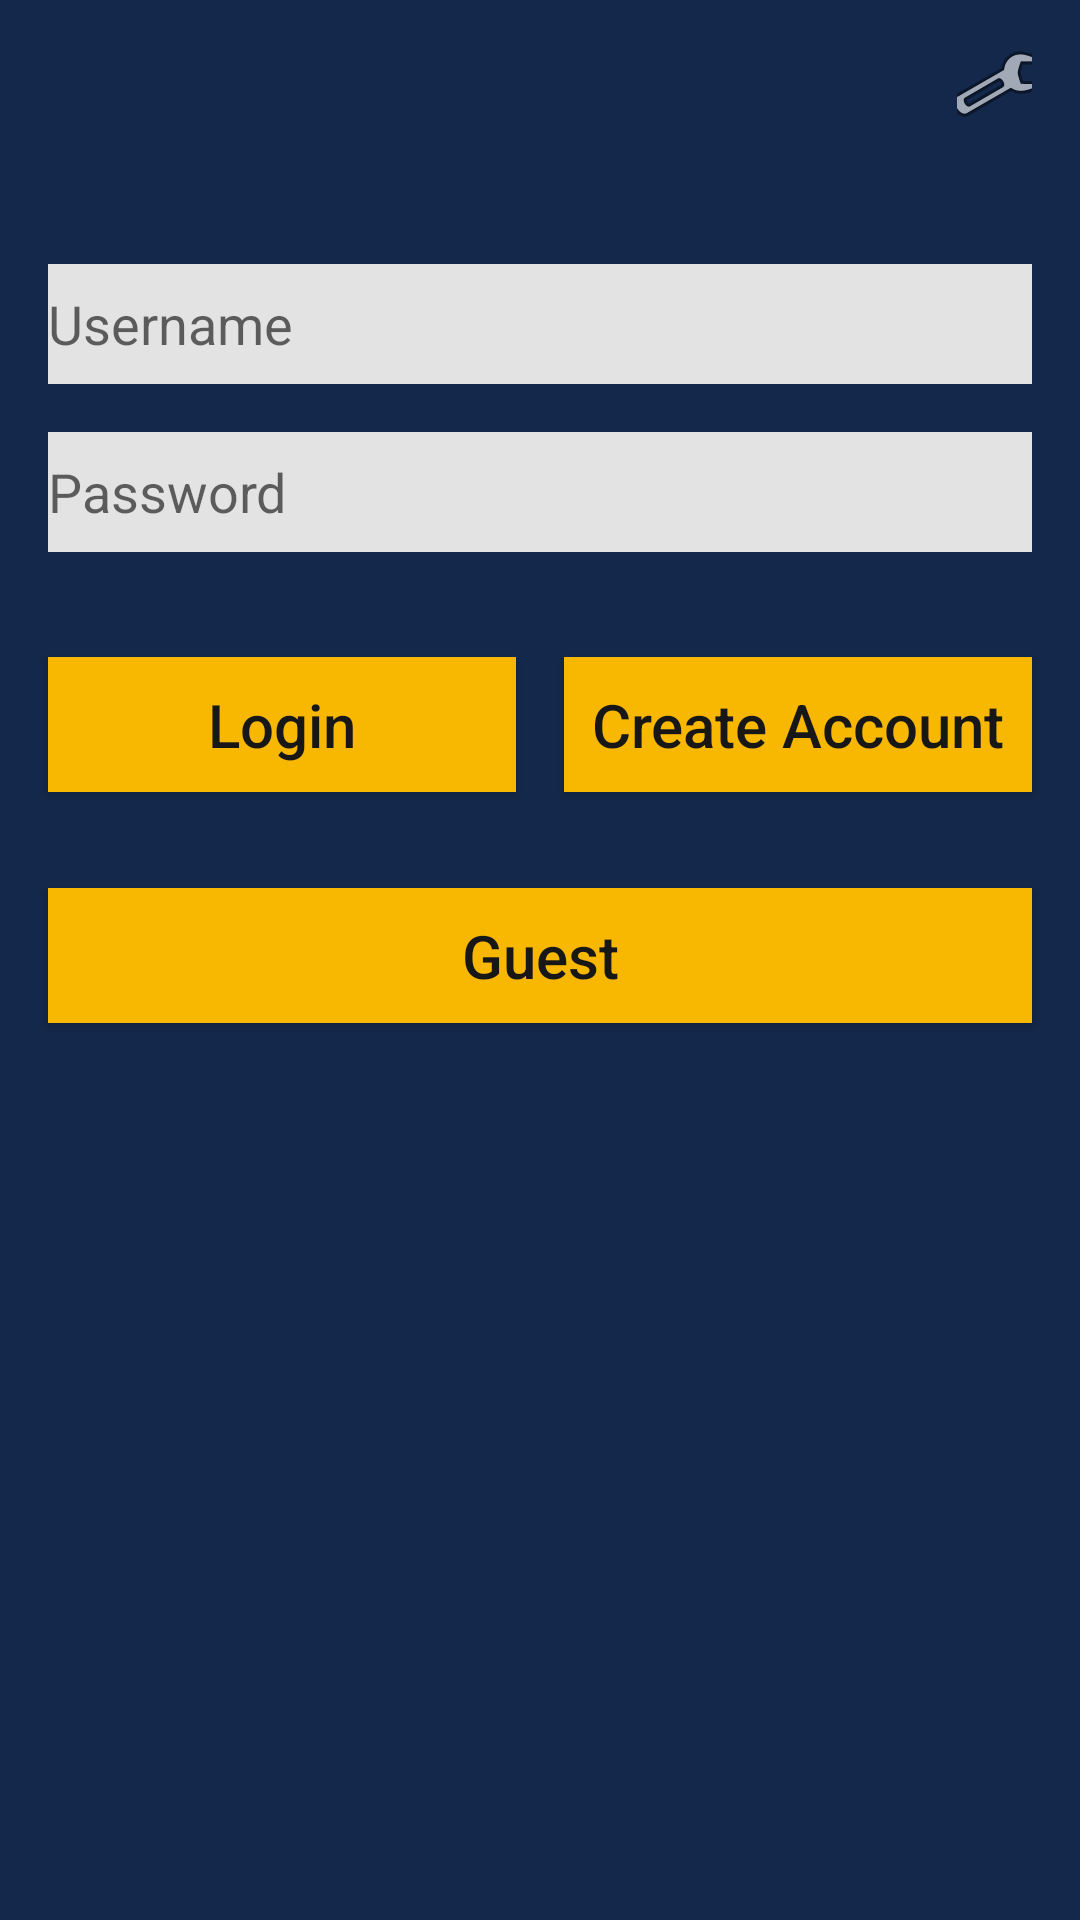

Point at icon controls on the screen. Image size 1080 × 1920, points as point (x, y).
manage: point (994, 84)
